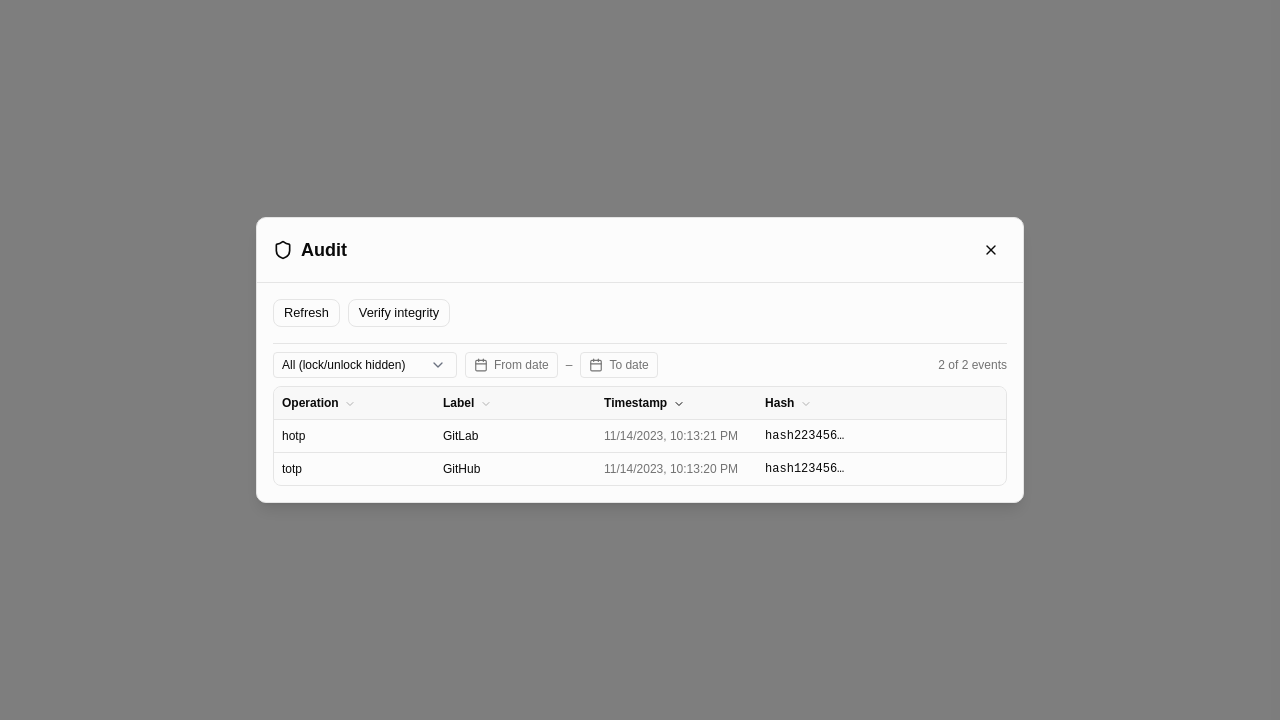
it: AuditPanel › filters by operation type
Expected: the text "2 of 2 events" is shown, top-left (938, 357), bottom-right (1007, 373)
// Filter to TOTP only
Step 1. Select "totp" in the dropdown → [365, 365], box top-left (273, 352), bottom-right (457, 378)
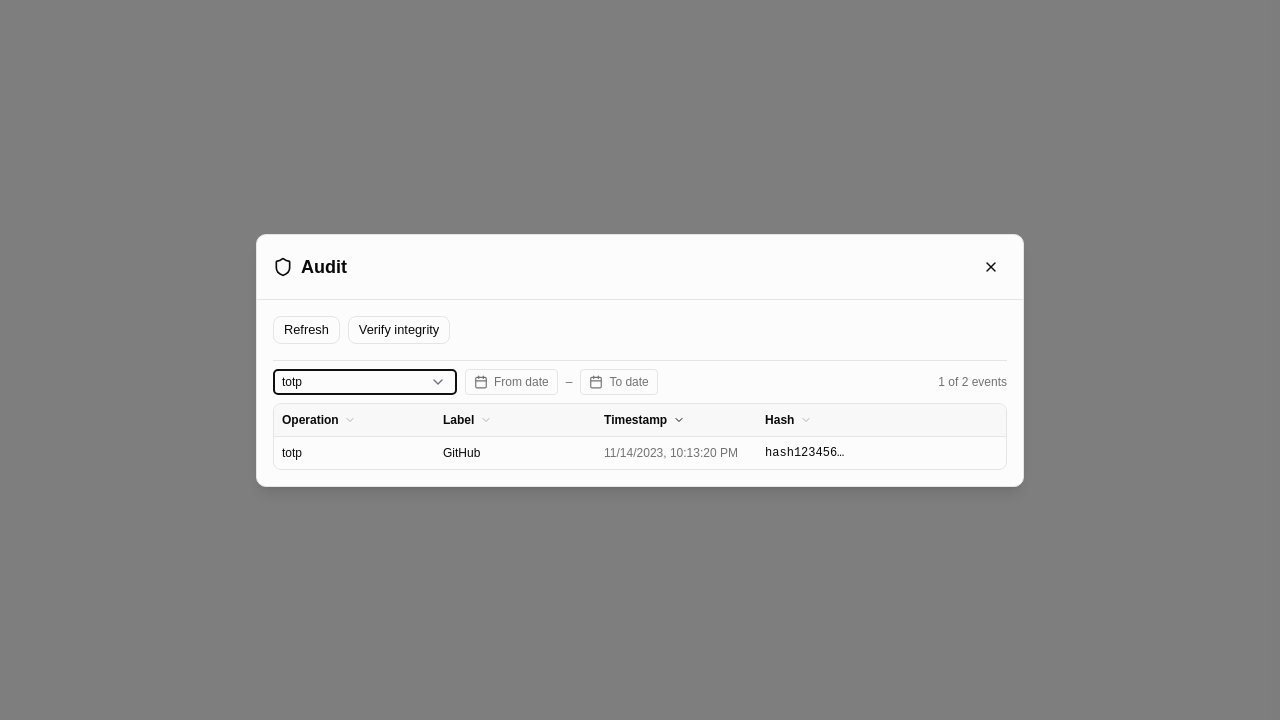
Expected: the text "1 of 2 events" is shown, top-left (938, 374), bottom-right (1007, 390)
